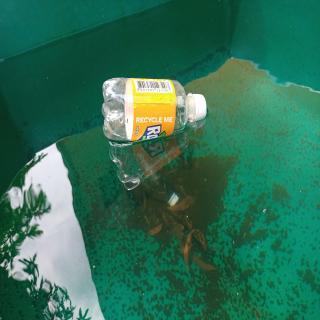bottle: (101, 76, 206, 144)
